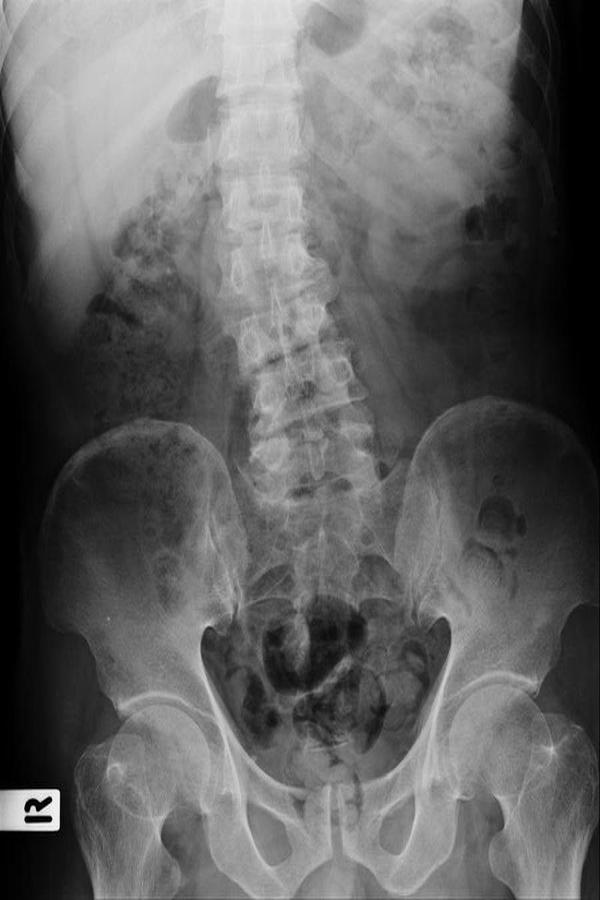lumbar scoliosis: (209, 8, 379, 537)
